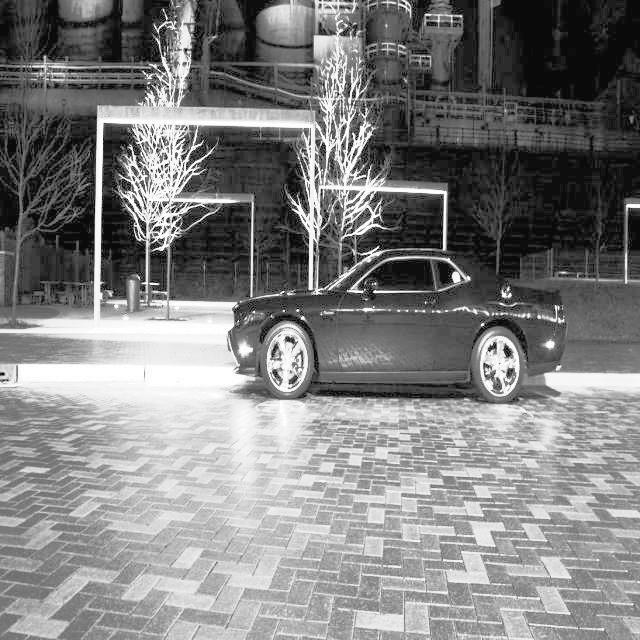Car: (231, 244, 568, 408)
